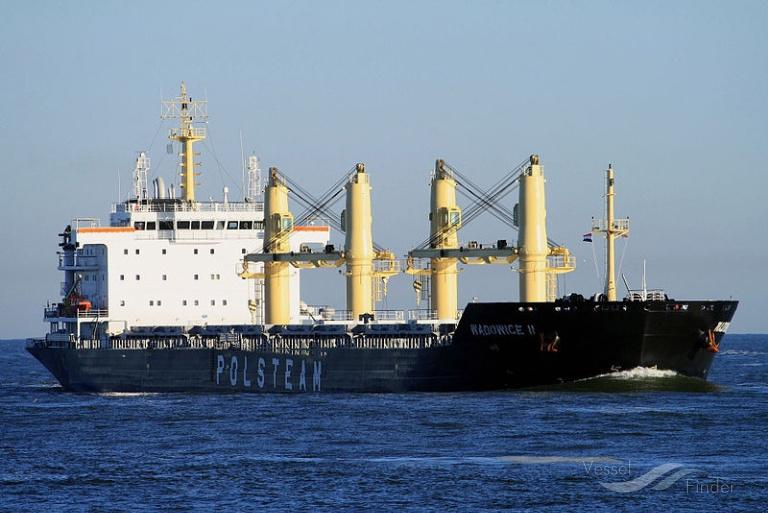OCR: (208, 344, 327, 392), (466, 314, 544, 338)
